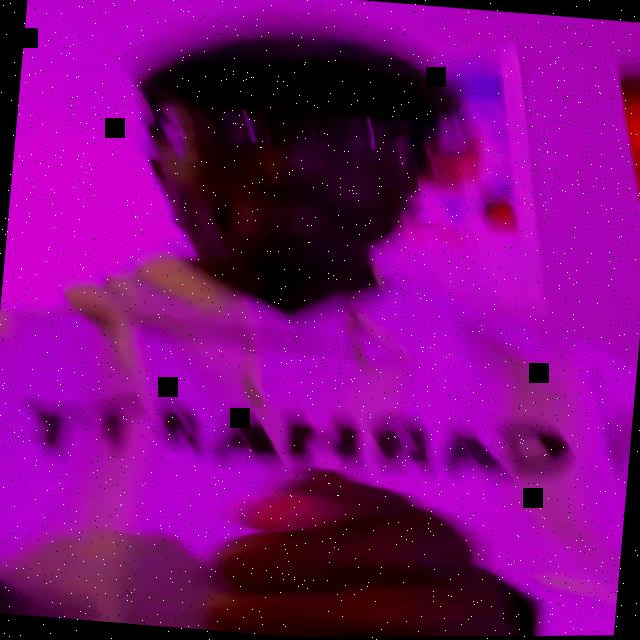Rock: (195, 460, 531, 639)
